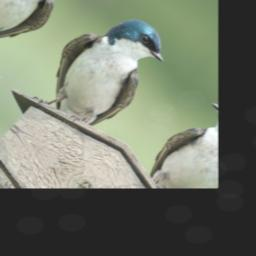Swallow: (21, 0, 183, 148)
